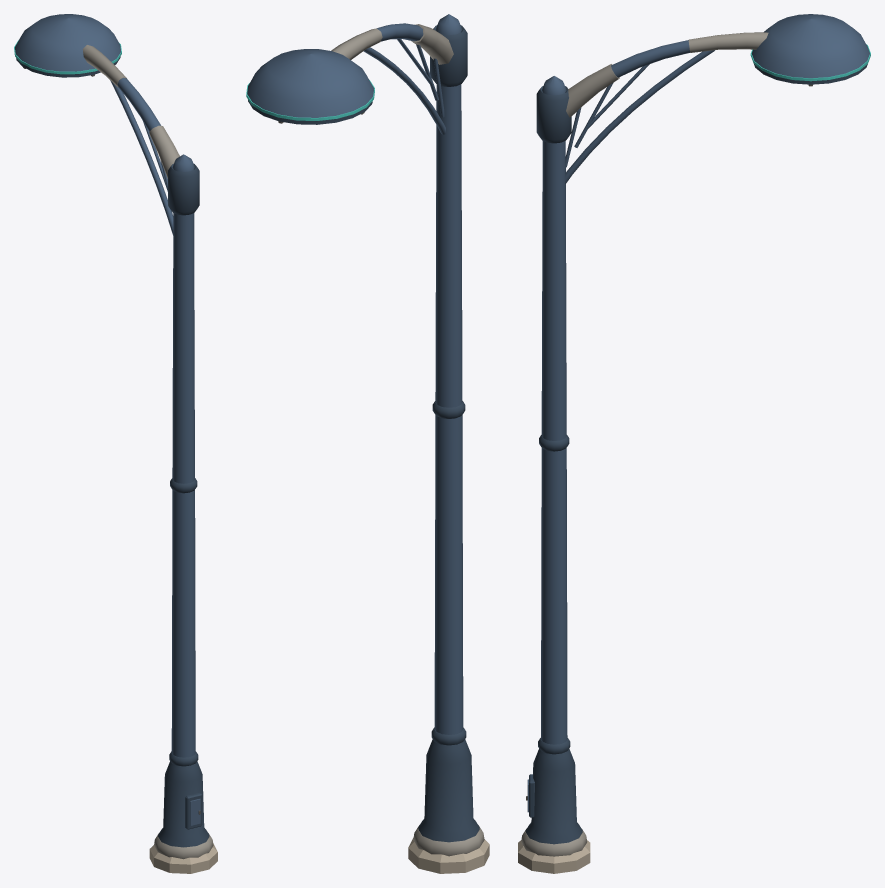
The model's file is lamp.glb.
3 renders of one model, left to right at view 1: azimuth 30°, elevation 25°; view 2: azimuth 150°, elevation 25°; view 3: azimuth 270°, elevation 25°, orthographic. The views are drawn at different scales.
Visible parts, largest first — view 1: lamp.lamp-L0.shaft.1, lamp.lamp-L0.head.5, lamp.lamp-L0.base.0, lamp.lamp-L0.arm.3, lamp.lamp-L0.arm.shaft-sleeve.7, lamp.lamp-L0.arm.root-coupling.8, lamp.lamp-L0.base.anchor-sleeve.6, lamp.lamp-L0.head.arm-socket.9, lamp.lamp-L0.hatch.4; view 2: lamp.lamp-L0.shaft.1, lamp.lamp-L0.head.5, lamp.lamp-L0.base.0, lamp.lamp-L0.arm.3, lamp.lamp-L0.arm.shaft-sleeve.7, lamp.lamp-L0.base.anchor-sleeve.6, lamp.lamp-L0.arm.root-coupling.8, lamp.lamp-L0.head.arm-socket.9; view 3: lamp.lamp-L0.shaft.1, lamp.lamp-L0.head.5, lamp.lamp-L0.base.0, lamp.lamp-L0.arm.3, lamp.lamp-L0.arm.shaft-sleeve.7, lamp.lamp-L0.head.arm-socket.9, lamp.lamp-L0.arm.root-coupling.8, lamp.lamp-L0.base.anchor-sleeve.6.
Boxes of the visible parts, x1=… form: lamp.lamp-L0.shaft.1: x1=170, y1=213, x2=197, y2=757; lamp.lamp-L0.head.5: x1=14, y1=14, x2=121, y2=77; lamp.lamp-L0.base.0: x1=149, y1=751, x2=217, y2=873; lamp.lamp-L0.arm.3: x1=110, y1=78, x2=173, y2=235; lamp.lamp-L0.arm.shaft-sleeve.7: x1=168, y1=163, x2=199, y2=215; lamp.lamp-L0.arm.root-coupling.8: x1=149, y1=125, x2=179, y2=178; lamp.lamp-L0.base.anchor-sleeve.6: x1=154, y1=833, x2=213, y2=859; lamp.lamp-L0.head.arm-socket.9: x1=82, y1=45, x2=126, y2=87; lamp.lamp-L0.hatch.4: x1=185, y1=792, x2=202, y2=829; lamp.lamp-L0.shaft.1: x1=432, y1=84, x2=465, y2=734; lamp.lamp-L0.head.5: x1=246, y1=49, x2=374, y2=124; lamp.lamp-L0.base.0: x1=408, y1=727, x2=489, y2=873; lamp.lamp-L0.arm.3: x1=363, y1=23, x2=445, y2=134; lamp.lamp-L0.arm.shaft-sleeve.7: x1=430, y1=25, x2=467, y2=86; lamp.lamp-L0.base.anchor-sleeve.6: x1=413, y1=825, x2=484, y2=856; lamp.lamp-L0.arm.root-coupling.8: x1=411, y1=24, x2=453, y2=64; lamp.lamp-L0.head.arm-socket.9: x1=331, y1=28, x2=382, y2=59; lamp.lamp-L0.shaft.1: x1=539, y1=141, x2=569, y2=744; lamp.lamp-L0.head.5: x1=750, y1=14, x2=870, y2=86; lamp.lamp-L0.base.0: x1=518, y1=738, x2=590, y2=873; lamp.lamp-L0.arm.3: x1=565, y1=40, x2=715, y2=183; lamp.lamp-L0.arm.shaft-sleeve.7: x1=536, y1=86, x2=571, y2=143; lamp.lamp-L0.head.arm-socket.9: x1=688, y1=32, x2=768, y2=52; lamp.lamp-L0.arm.root-coupling.8: x1=566, y1=64, x2=619, y2=117; lamp.lamp-L0.base.anchor-sleeve.6: x1=521, y1=828, x2=587, y2=856.
Size of the model in its own units: 0.632 by 4.87 by 1.86.
